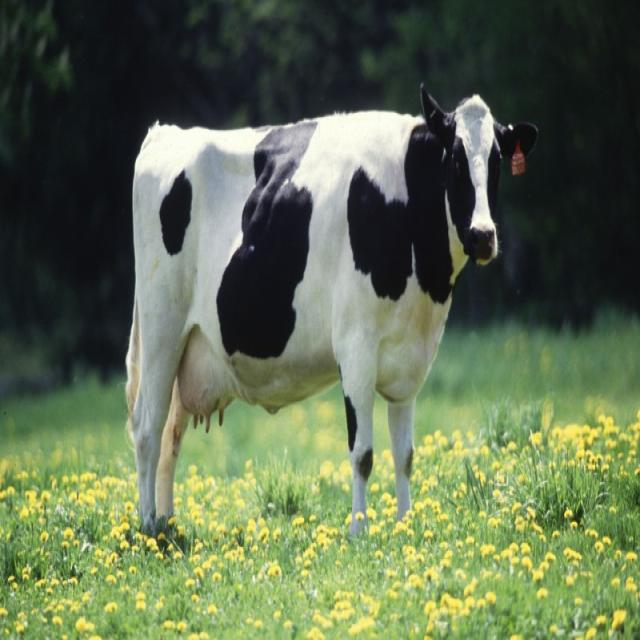Herbivorous: (125, 89, 538, 551)
